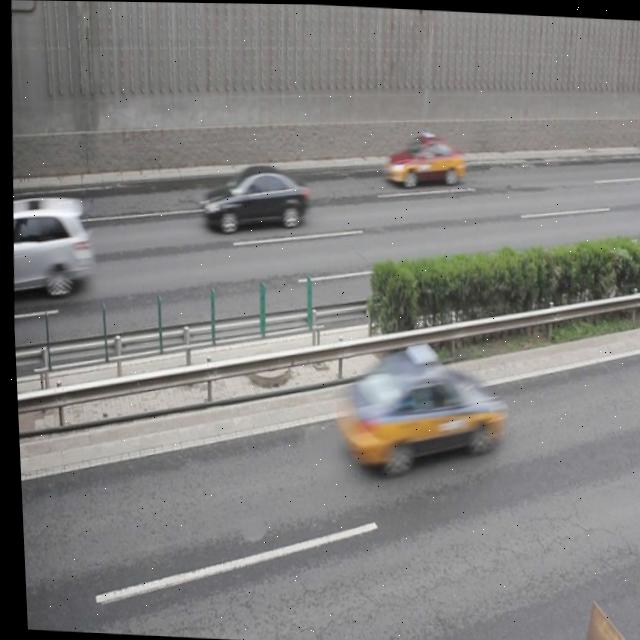car: (328, 346, 502, 474), (197, 160, 312, 235), (380, 131, 465, 189)
truck: (8, 195, 93, 295)
